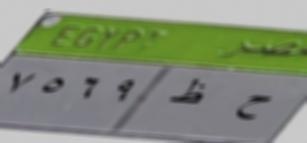5: (41, 71, 65, 103)
6: (77, 69, 103, 104)
7: (5, 67, 36, 100)
7aa: (231, 88, 272, 128)
9: (110, 75, 141, 107)
Thaa: (168, 69, 210, 113)
